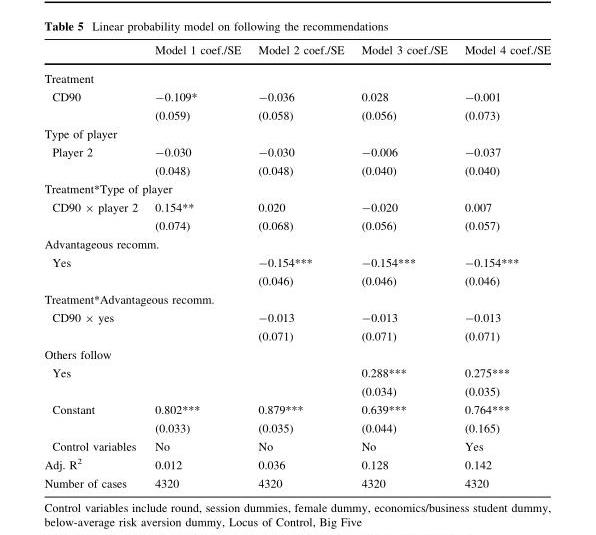table: (43, 44, 550, 489)
table column: (248, 44, 352, 489), (145, 44, 248, 489), (352, 44, 455, 489), (43, 44, 145, 489), (455, 44, 550, 489)
table column header: (43, 44, 550, 64)
table projected row header: (43, 64, 550, 88), (43, 124, 550, 143), (43, 345, 550, 364), (43, 180, 550, 198), (43, 235, 550, 253), (43, 290, 550, 308)
table row: (43, 64, 550, 88), (43, 44, 550, 64), (43, 454, 550, 474), (43, 124, 550, 143), (43, 161, 550, 180), (43, 216, 550, 235), (43, 253, 550, 272), (43, 308, 550, 327), (43, 345, 550, 364), (43, 400, 550, 419), (43, 88, 550, 106), (43, 106, 550, 124), (43, 143, 550, 161), (43, 180, 550, 198), (43, 198, 550, 216), (43, 235, 550, 253), (43, 272, 550, 290), (43, 290, 550, 308), (43, 327, 550, 345), (43, 364, 550, 382), (43, 382, 550, 400), (43, 419, 550, 437), (43, 437, 550, 454), (43, 474, 550, 489)
table spanning cell: (43, 143, 145, 180), (43, 198, 145, 235), (43, 253, 145, 290), (43, 308, 145, 345), (43, 400, 145, 437), (43, 88, 145, 124), (43, 364, 145, 400)
